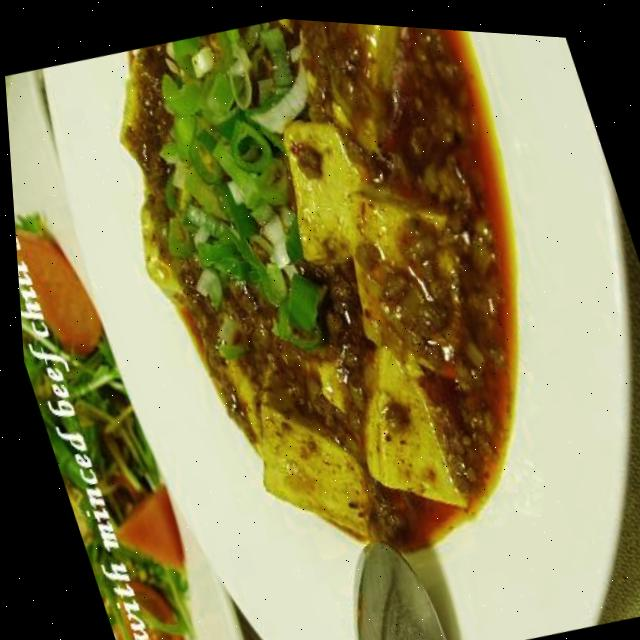豆腐料理: (4, 0, 640, 640)
